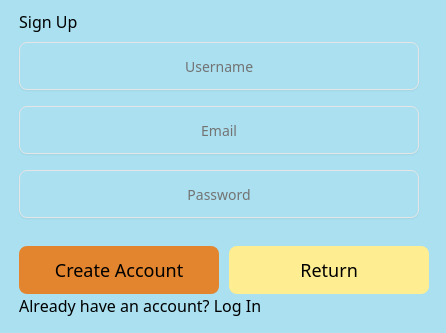
it: SignUpPage › submits form with valid credentials
Type "newuser" into the field with placeholder "Username" at (219, 66), box [19, 42, 419, 90]
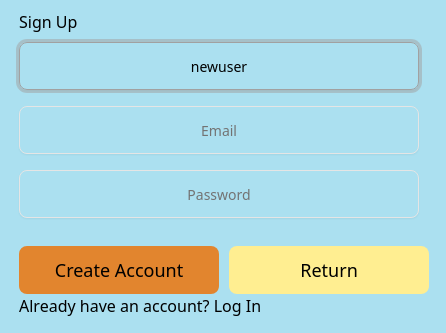
Type "new@example.com" into the field with placeholder "Email" at (219, 130), box [19, 106, 419, 154]
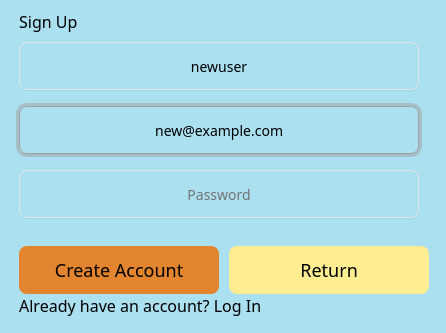
Type "password123" into the password field with placeholder "Password" at (219, 194), box [19, 170, 419, 218]
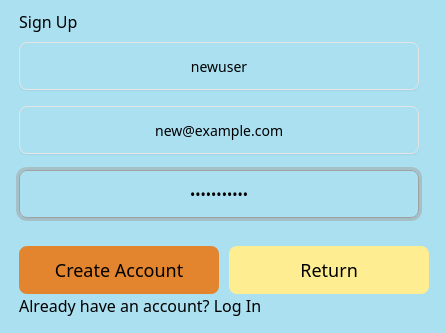
Click the button "Create Account" at (119, 270), box [19, 246, 219, 294]
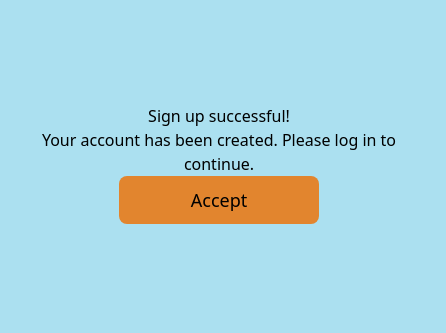
Expected: the heading "Sign up successful!" is shown, [148, 105, 290, 127]
